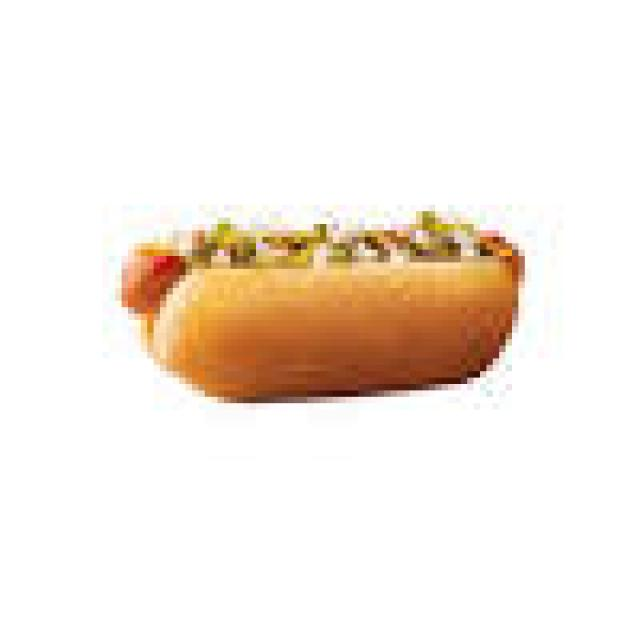Hot Dog: (132, 198, 551, 396)
